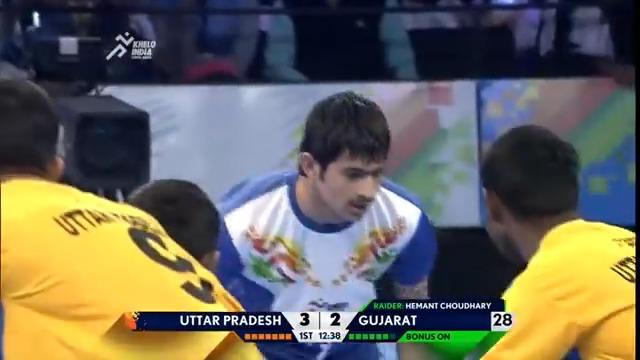Player: (0, 76, 266, 359), (473, 123, 636, 359)
Raider: (212, 89, 439, 358)
